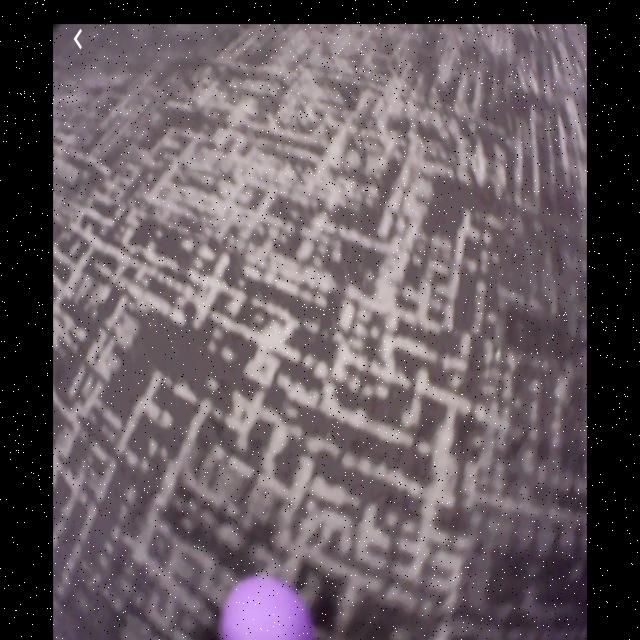ball: (216, 571, 312, 640)
